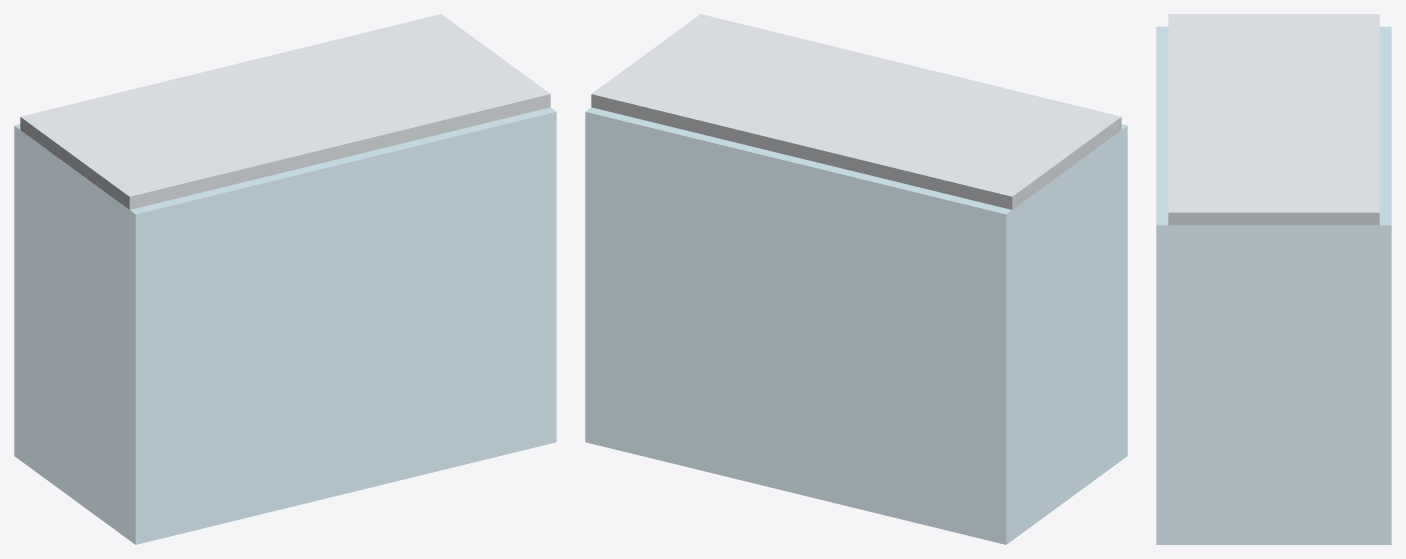
Rendered from alpine-and-arctic-biomes-crevasse-block-b7ff21dd__21038.glb.
3 renders of one model, left to right at view 1: azimuth 30°, elevation 25°; view 2: azimuth 150°, elevation 25°; view 3: azimuth 270°, elevation 25°, orthographic. The views are drawn at different scales.
Parts seen in each view (by area): view 1: crevasse-block; view 2: crevasse-block; view 3: crevasse-block.
Part boxes in pixels (<box>): crevasse-block: <box>14,14,556,544</box>; crevasse-block: <box>585,14,1127,544</box>; crevasse-block: <box>1156,14,1391,544</box>.
Size of the model in its own units: 4 by 3.12 by 2.
